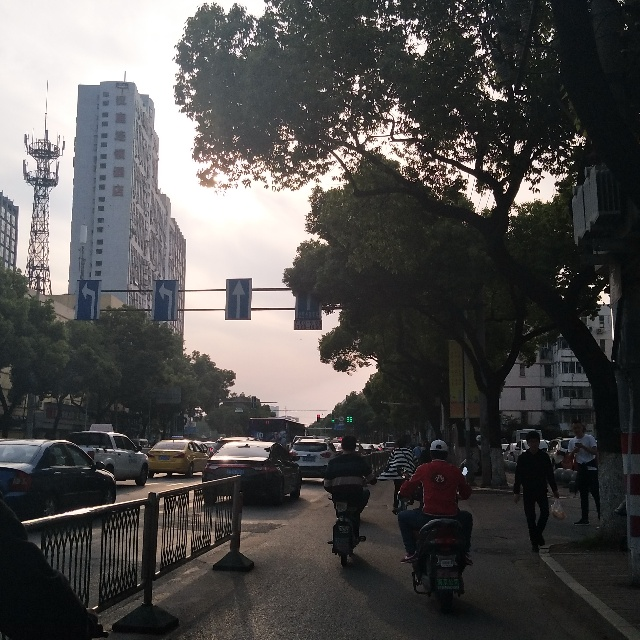left: (152, 276, 178, 322), (74, 275, 98, 323)
straight: (220, 277, 255, 322)
